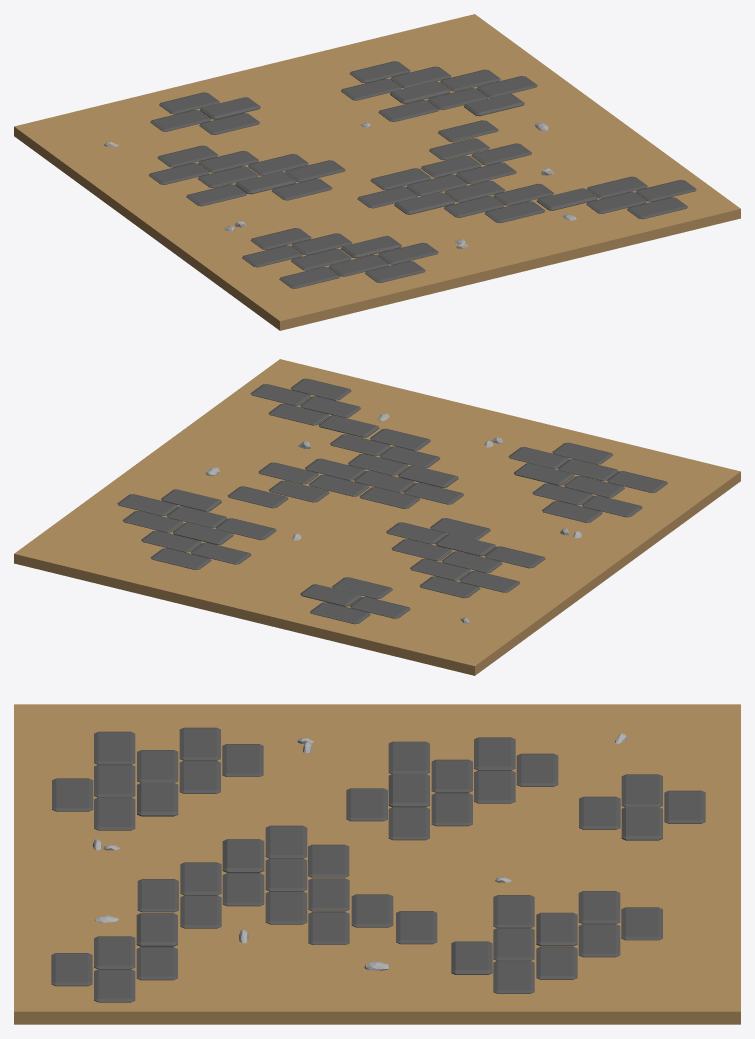
File: DungeonGroundSand.fbx
3 views of the same model, one above another, from view 1: azimuth 30°, elevation 25°; view 2: azimuth 150°, elevation 25°; view 3: azimuth 270°, elevation 25° (orthographic). The views are drawn at different scales.
Parts seen in each view (by area): view 1: DungeonGroundSand; view 2: DungeonGroundSand; view 3: DungeonGroundSand.
Part boxes in pixels (<box>): DungeonGroundSand: <box>14,14,740,330</box>; DungeonGroundSand: <box>14,359,740,675</box>; DungeonGroundSand: <box>14,704,740,1024</box>.
Size of the model in its own units: 500 by 16.43 by 500.
1 material, 1 textured.
